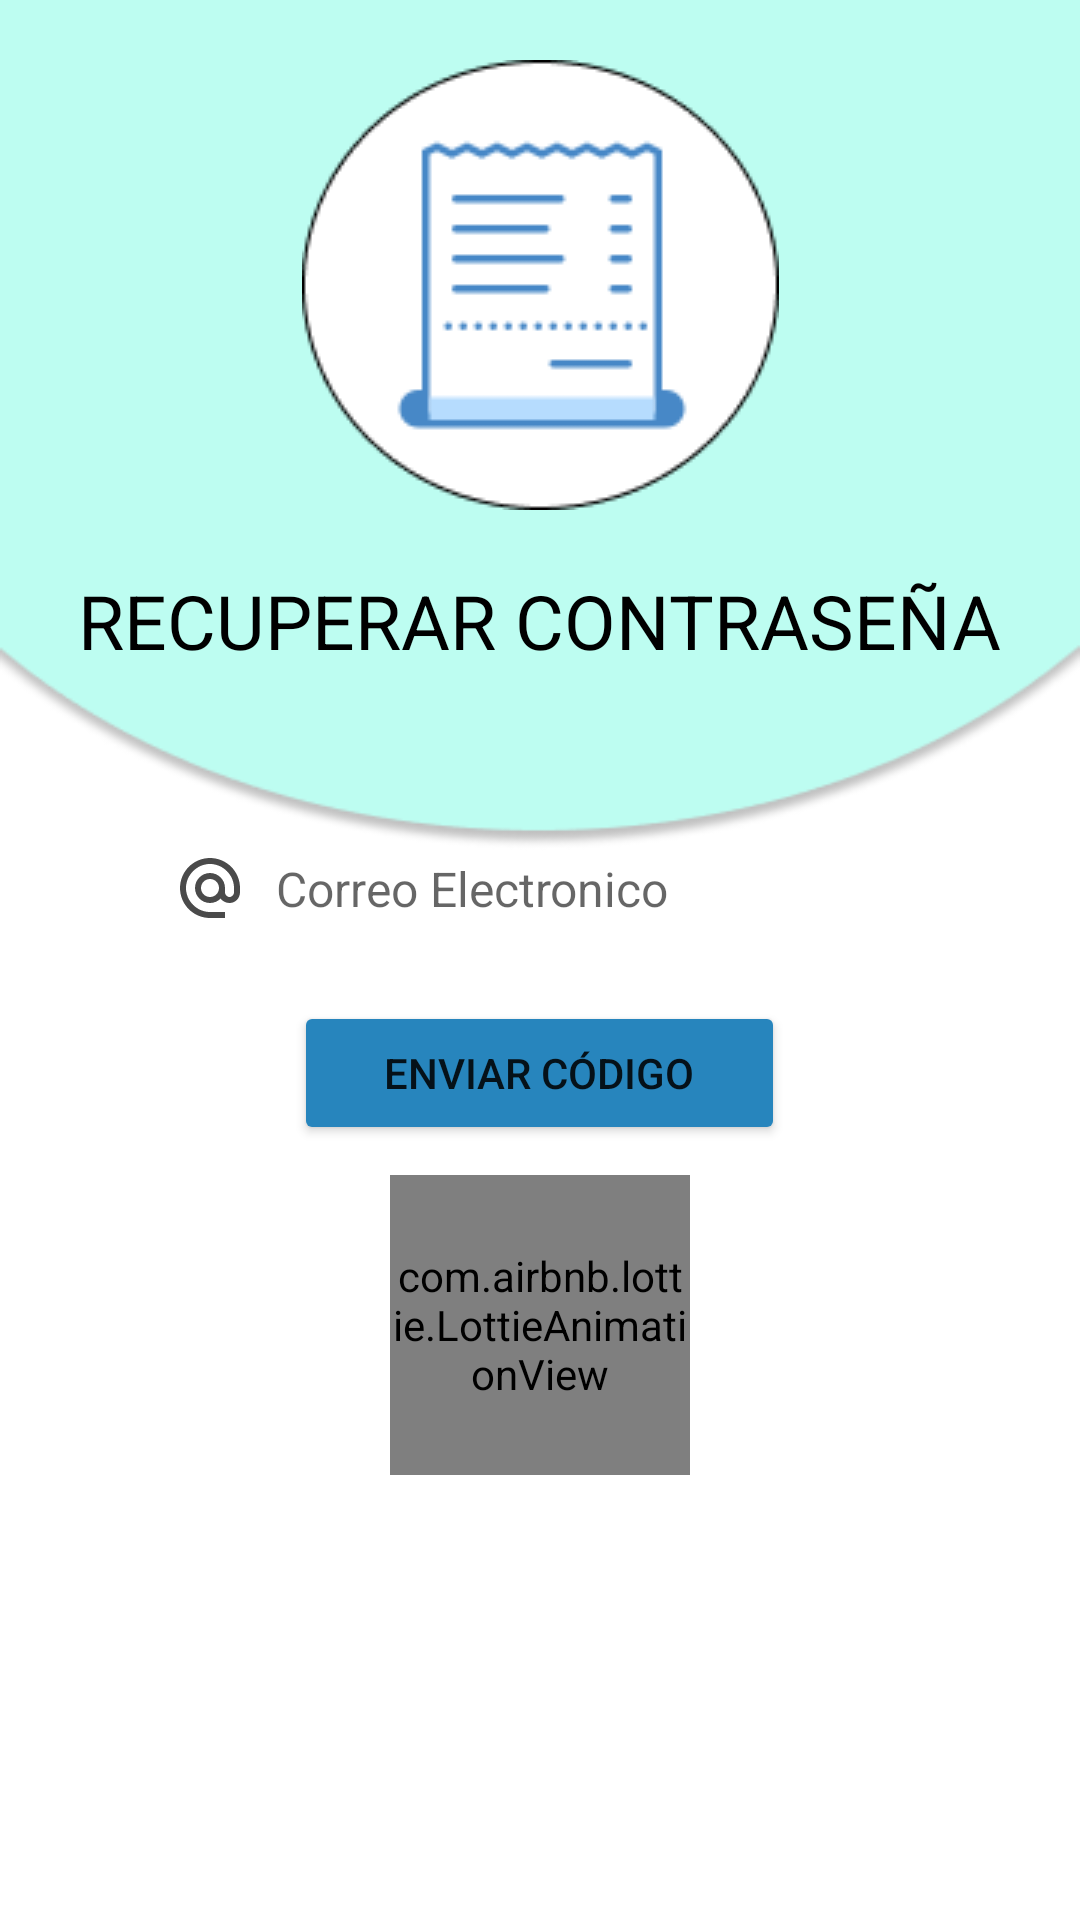

Where icons sit on this 1080 × 1920 app screen, as (x1, y1, x2, y2):
alternate email: (180, 858, 240, 918)
